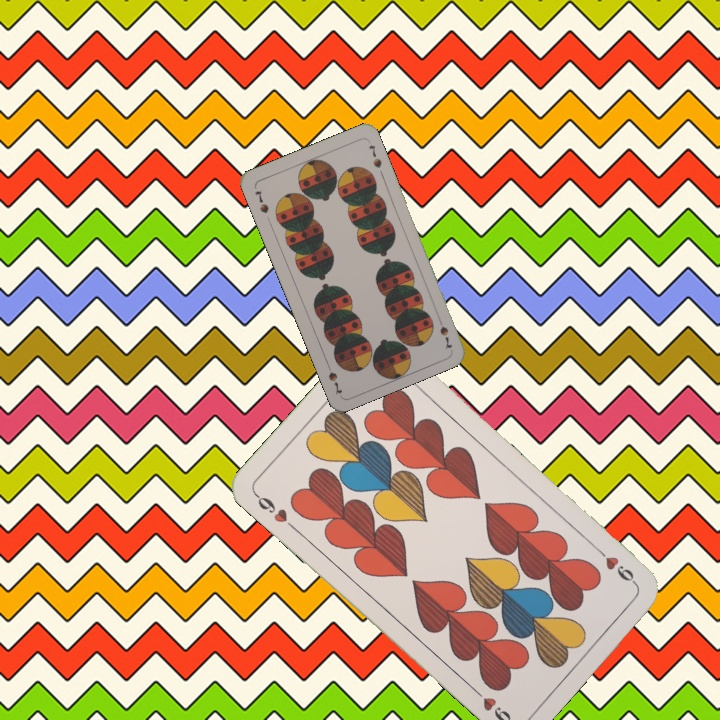H9: (250, 489, 299, 533), (592, 543, 639, 588)
S7: (434, 312, 455, 351), (251, 186, 271, 216)
